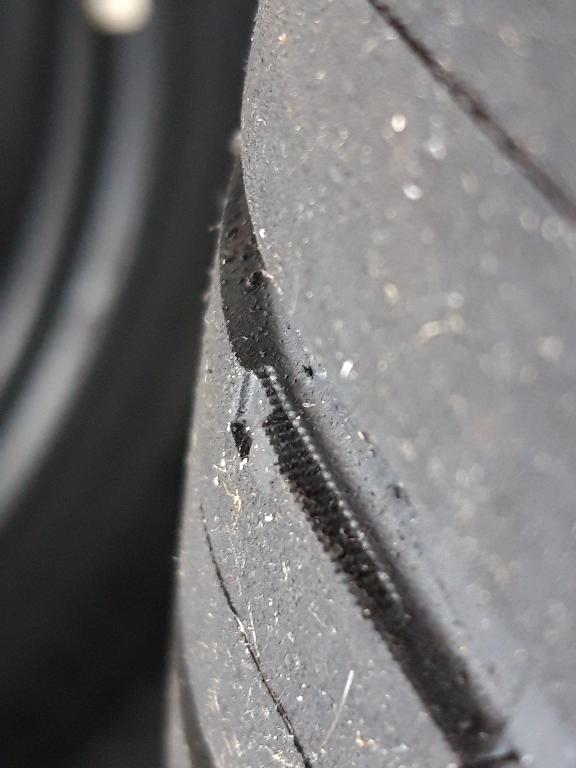temoin:25: (221, 361, 330, 506)
